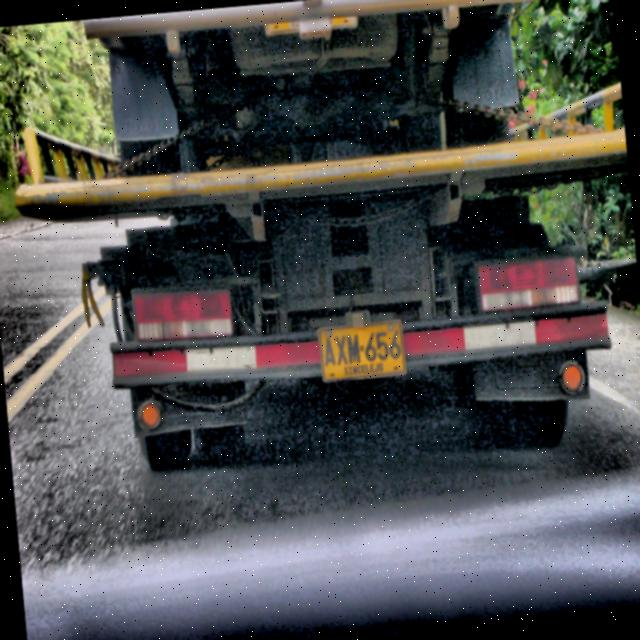plate: (317, 319, 406, 382)
